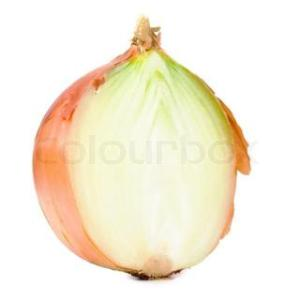onion: (30, 23, 236, 278)
